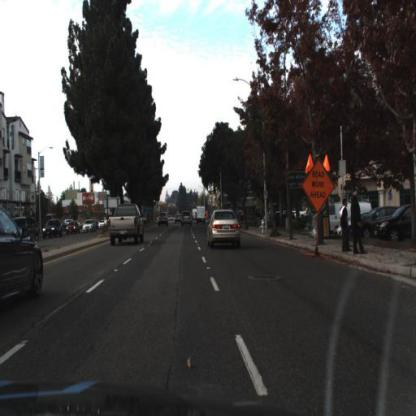car: (1, 200, 48, 315), (103, 197, 148, 249), (204, 205, 247, 254), (376, 203, 416, 243), (194, 199, 212, 230), (177, 207, 197, 233), (82, 217, 99, 238), (157, 209, 172, 231), (64, 219, 81, 238), (82, 218, 98, 236), (196, 205, 208, 225), (66, 222, 79, 236), (104, 210, 112, 231)
pedestrian: (338, 194, 351, 253), (342, 197, 349, 253)
truck: (315, 196, 374, 236), (328, 200, 372, 234)
